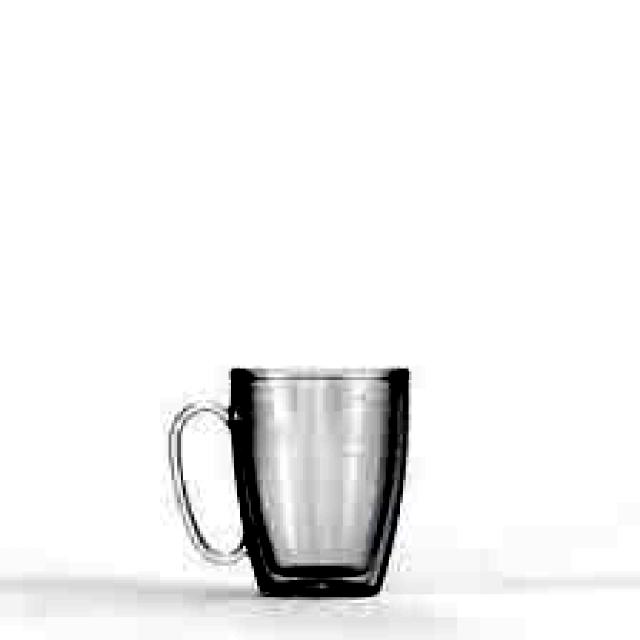Glass: (218, 359, 416, 604)
